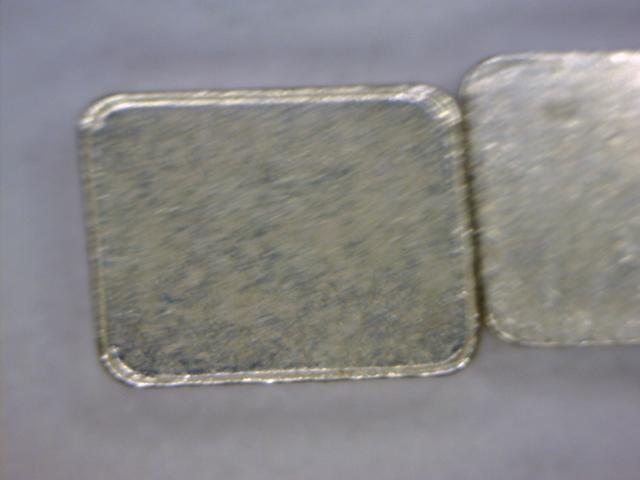nok: (63, 81, 484, 397)
